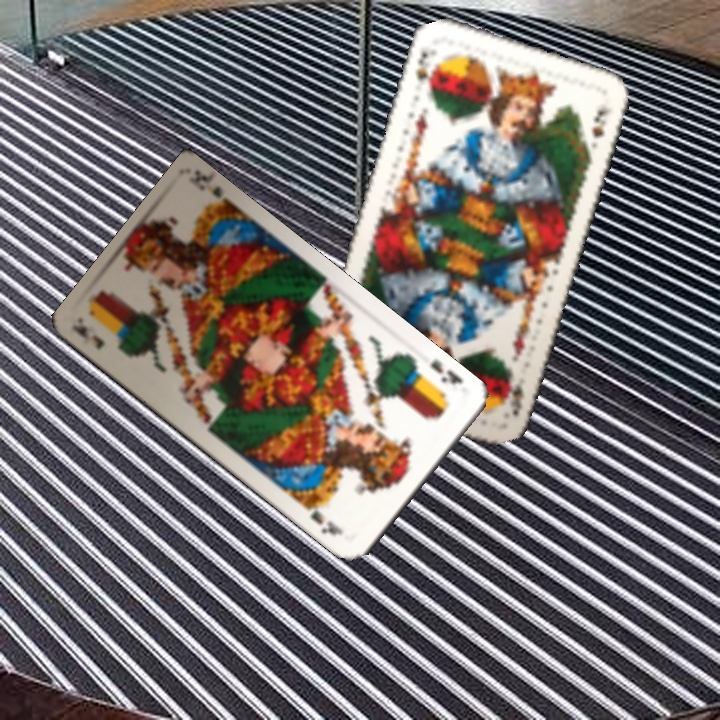EK: (426, 355, 467, 388), (72, 321, 108, 352)
SK: (410, 46, 439, 96), (501, 373, 527, 420)
